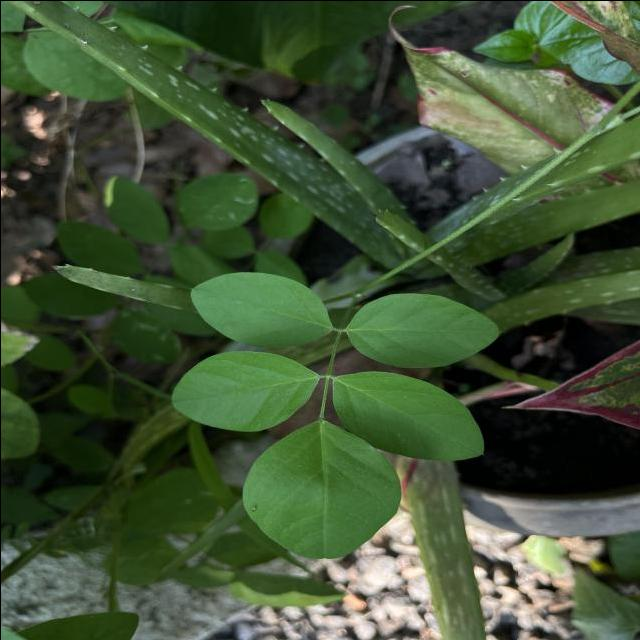Clitoria ternatea: (240, 418, 402, 559), (329, 368, 485, 462), (169, 348, 320, 433), (344, 290, 499, 368), (188, 270, 333, 348)
